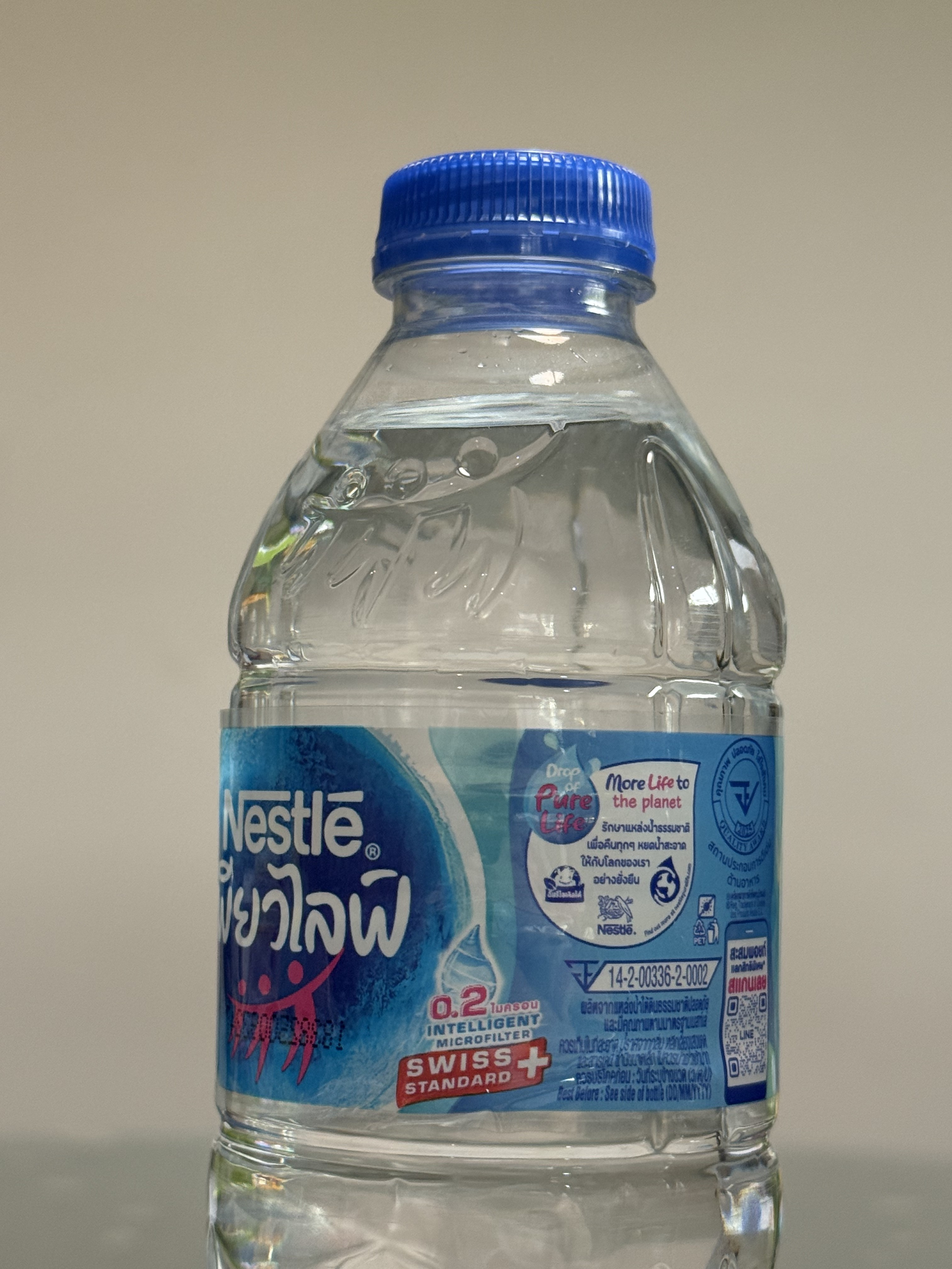closed_cap: (368, 144, 659, 300)
